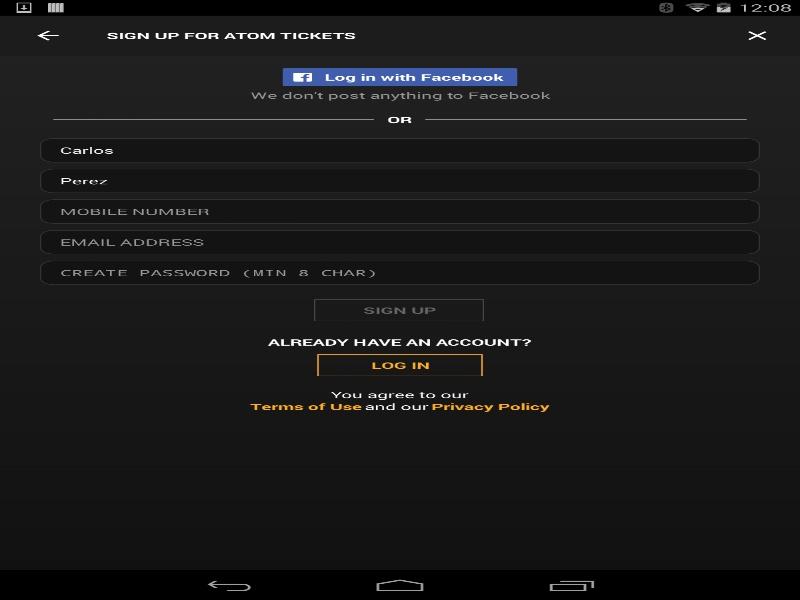Button: (310, 297, 489, 323), (282, 68, 517, 86), (317, 354, 482, 376), (10, 15, 85, 55)
Input: (40, 168, 760, 193), (40, 260, 760, 285), (40, 138, 760, 162), (40, 199, 760, 223), (40, 230, 760, 254)
